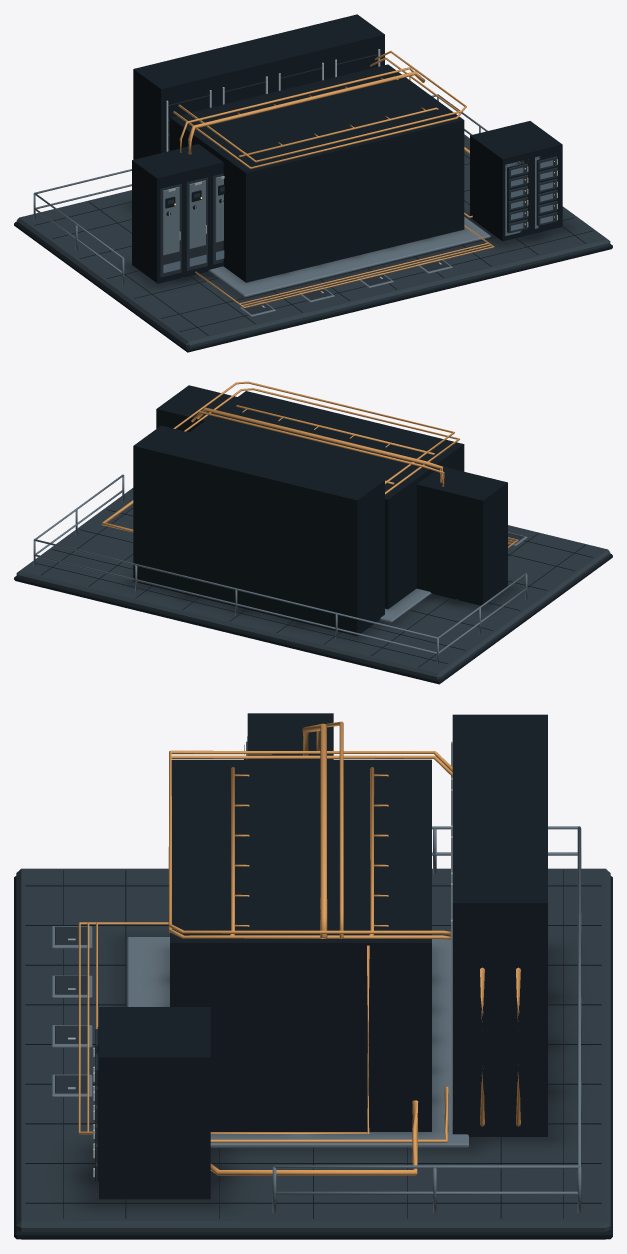
Rendered from facility.glb.
3 renders of one model, top to bottom at view 1: azimuth 30°, elevation 25°; view 2: azimuth 150°, elevation 25°; view 3: azimuth 270°, elevation 25°, orthographic. The views are drawn at different scales.
Parts seen in each view (by area): view 1: GN_PICK_WORKLOADS, GN_PLATFORM_Platform, GN_PICK_COOLING, GN_PICK_POWER, GN_PICK_STORAGE, GN_PLATFORM_Steel, GN_PLATFORM_Dark, GN_POWER_Steel, GN_ACCENT_COOLING_Copper, GN_POWER_Graphite, GN_POWER_Copper, GN_ACCENT_POWER_Copper (+6 smaller); view 2: GN_PICK_COOLING, GN_PLATFORM_Platform, GN_PICK_WORKLOADS, GN_PICK_POWER, GN_PLATFORM_Dark, GN_PLATFORM_Steel, GN_PICK_STORAGE, GN_ACCENT_COOLING_Copper, GN_POWER_Copper, GN_ACCENT_WORKLOADS_Copper; view 3: GN_PICK_WORKLOADS, GN_PLATFORM_Platform, GN_PICK_COOLING, GN_PICK_STORAGE, GN_PLATFORM_Steel, GN_PLATFORM_Dark, GN_ACCENT_COOLING_Copper, GN_PICK_POWER, GN_POWER_Copper, GN_ACCENT_POWER_Copper, GN_PLATFORM_Graphite, GN_ACCENT_WORKLOADS_Copper (+4 smaller).
Part boxes in pixels (box(x1,y1,x2,y2)): GN_PICK_WORKLOADS: box(170, 64, 464, 282); GN_PLATFORM_Platform: box(16, 134, 610, 347); GN_PICK_COOLING: box(133, 14, 384, 159); GN_PICK_POWER: box(132, 144, 223, 283); GN_PICK_STORAGE: box(470, 121, 562, 241); GN_PLATFORM_Steel: box(33, 94, 490, 316); GN_PLATFORM_Dark: box(14, 138, 612, 352); GN_POWER_Steel: box(163, 176, 223, 255); GN_ACCENT_COOLING_Copper: box(173, 50, 466, 168); GN_POWER_Graphite: box(160, 173, 224, 277); GN_POWER_Copper: box(179, 67, 425, 154); GN_ACCENT_POWER_Copper: box(195, 77, 494, 308); GN_PICK_COOLING: box(133, 425, 384, 635); GN_PLATFORM_Platform: box(16, 488, 610, 679); GN_PICK_WORKLOADS: box(189, 391, 464, 609); GN_PICK_POWER: box(416, 466, 507, 604); GN_PLATFORM_Dark: box(14, 508, 612, 684); GN_PLATFORM_Steel: box(33, 474, 527, 664); GN_PICK_STORAGE: box(156, 385, 237, 432); GN_ACCENT_COOLING_Copper: box(173, 381, 459, 494); GN_POWER_Copper: box(191, 407, 444, 486); GN_ACCENT_WORKLOADS_Copper: box(236, 405, 434, 484); GN_PICK_WORKLOADS: box(170, 759, 431, 1131); GN_PLATFORM_Platform: box(16, 868, 610, 1239); GN_PICK_COOLING: box(452, 714, 547, 1136); GN_PICK_STORAGE: box(99, 1007, 210, 1199); GN_PLATFORM_Steel: box(51, 826, 581, 1212); GN_PLATFORM_Dark: box(14, 870, 612, 1239); GN_ACCENT_COOLING_Copper: box(168, 750, 452, 939); GN_PICK_POWER: box(247, 713, 333, 759); GN_POWER_Copper: box(302, 721, 343, 938); GN_ACCENT_POWER_Copper: box(78, 922, 369, 1134); GN_PLATFORM_Graphite: box(55, 926, 87, 1093); GN_ACCENT_WORKLOADS_Copper: box(230, 767, 388, 935).
Size of the model in its own units: 10.86 by 3.59 by 7.66.
Materials: 8 (3 with a texture image).
